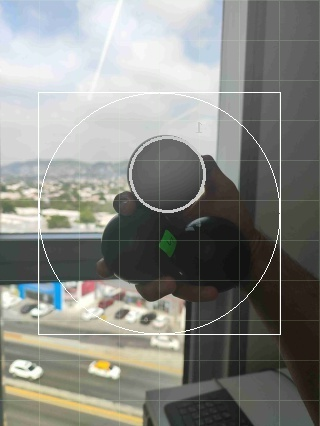Pelota blanca: (127, 132, 207, 214), (147, 0, 207, 27)
